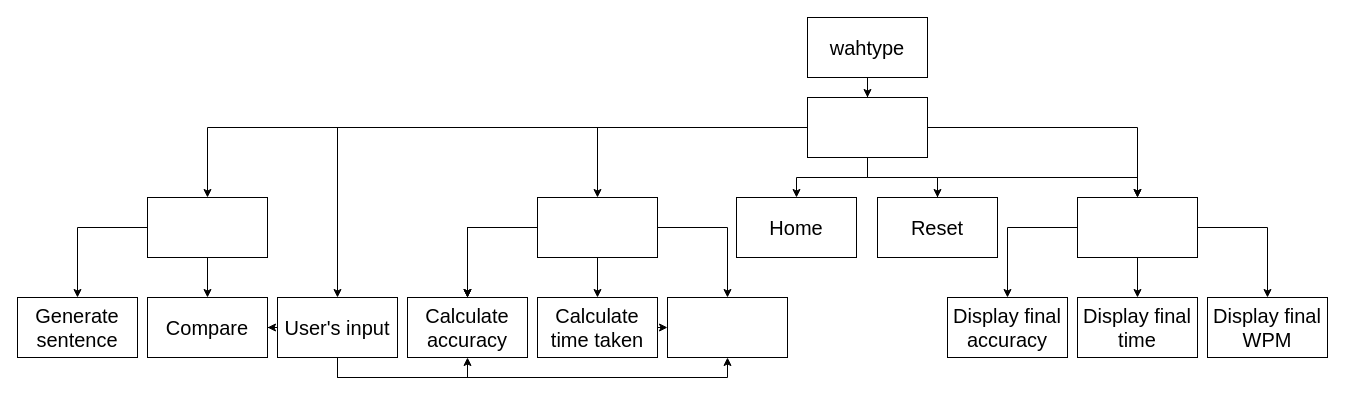
Some shapes in this 1345 by 403 pixel diagram are drawn without their labels. The shapes that lost their labels are listed below. From the top down, each one's centre as x and y in pixels, then its label:
(867,127): Game
(207,227): Target Sentece
(597,227): Performance
(1137,227): Results
(727,327): Calculate WPM
